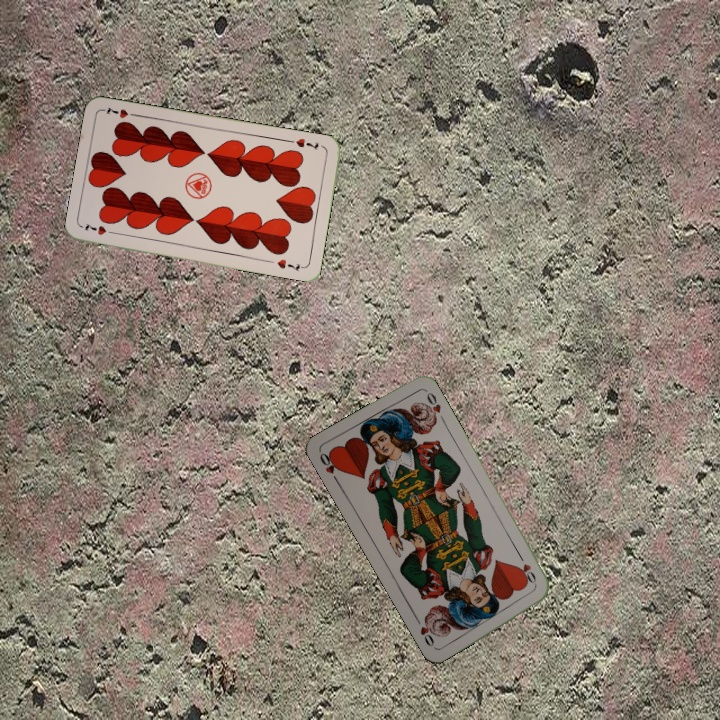H7: (81, 220, 119, 237), (292, 134, 321, 152)
HO: (315, 448, 342, 486), (515, 551, 540, 589)
